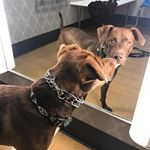puppy: (25, 43, 118, 148), (95, 24, 148, 71)
